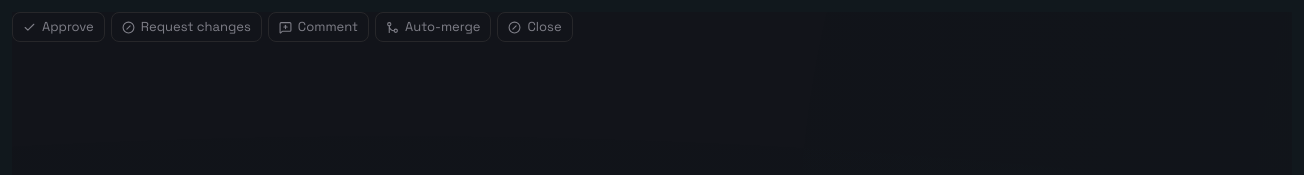
Scenario: PrActionsBar — verdicts that need prose › opens a composer instead of firing on click
Click the button "Request changes" at (186, 27), box 111,12 -> 262,42
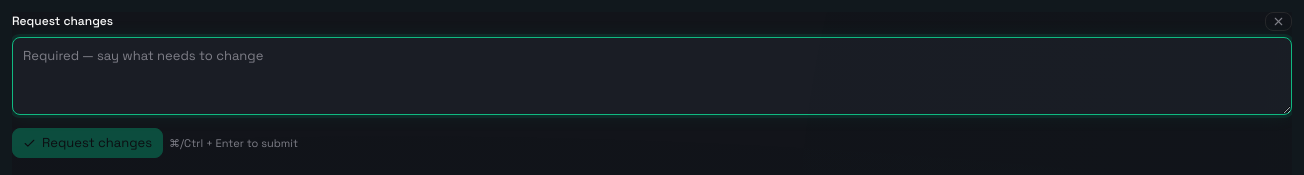
Now the text box is shown, box 12,37 -> 1292,115
